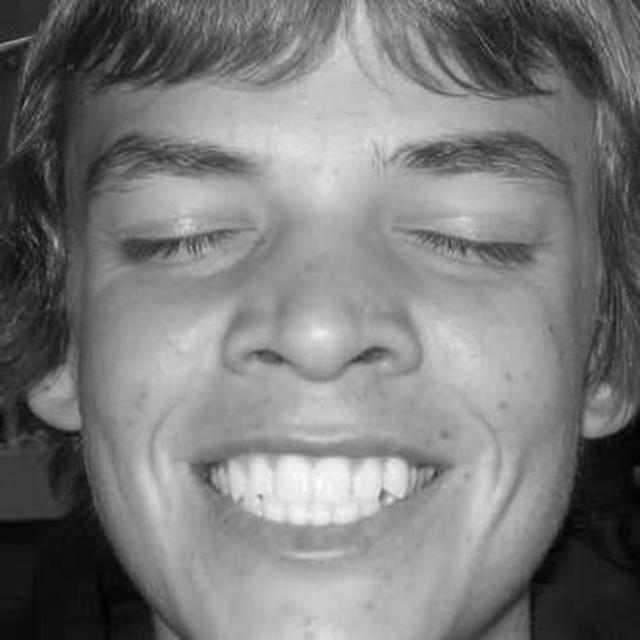real: (62, 95, 599, 640), (84, 162, 578, 296)
